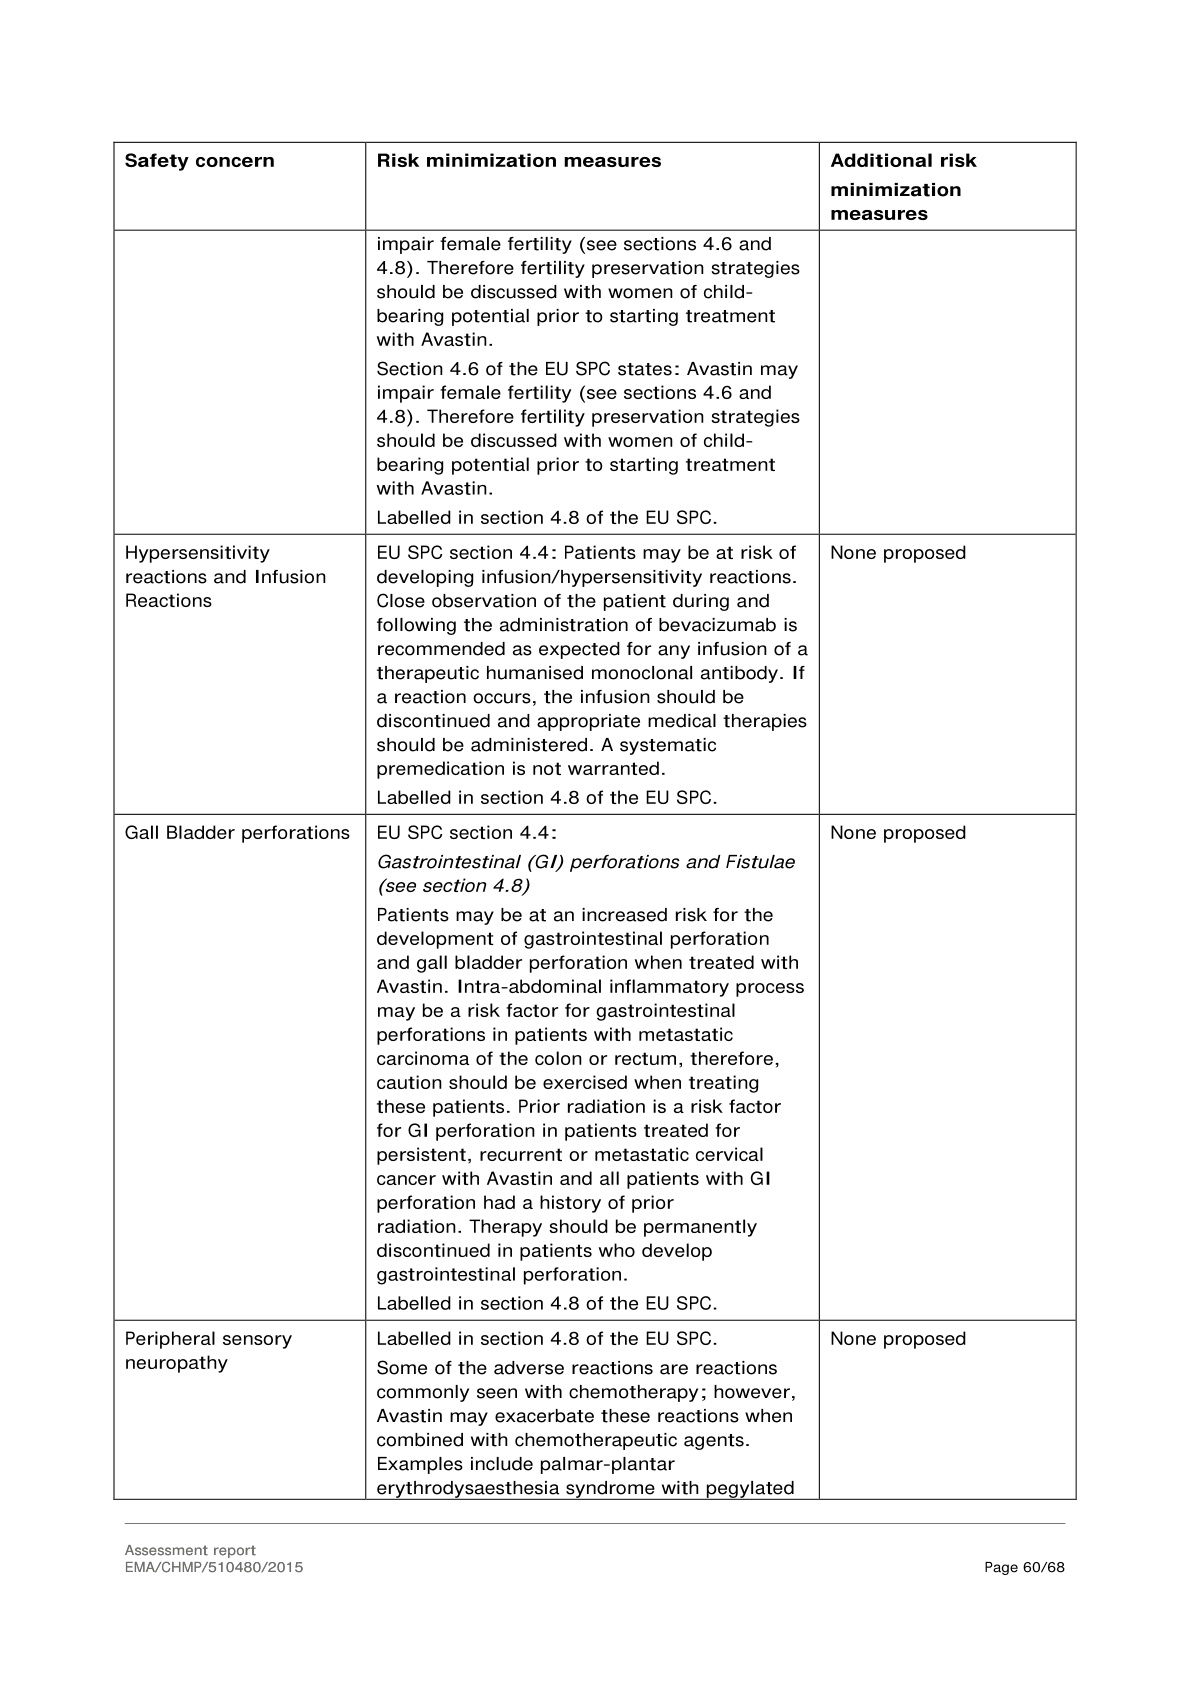full_lined: (113, 140, 1077, 1500)
